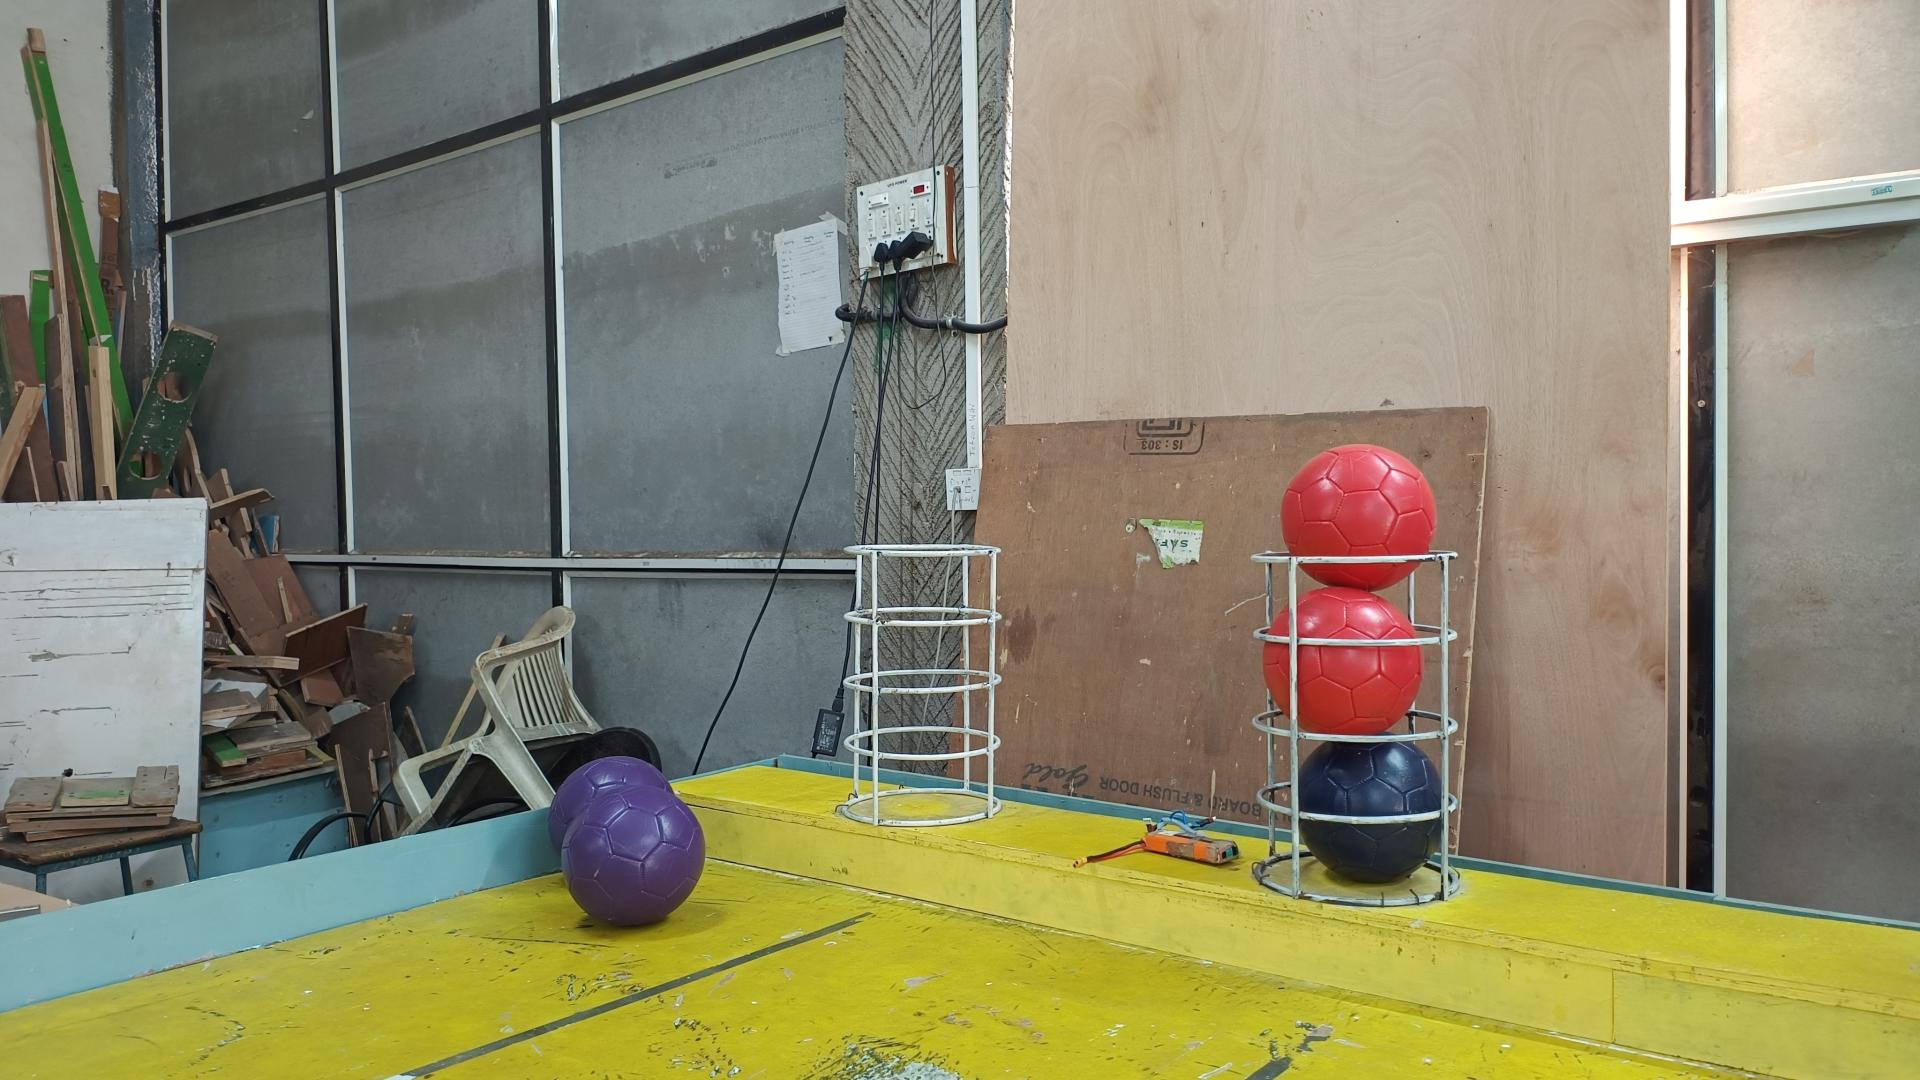dhoka: (1298, 742, 1440, 885)
laale: (1263, 588, 1425, 735), (1283, 444, 1440, 591)
